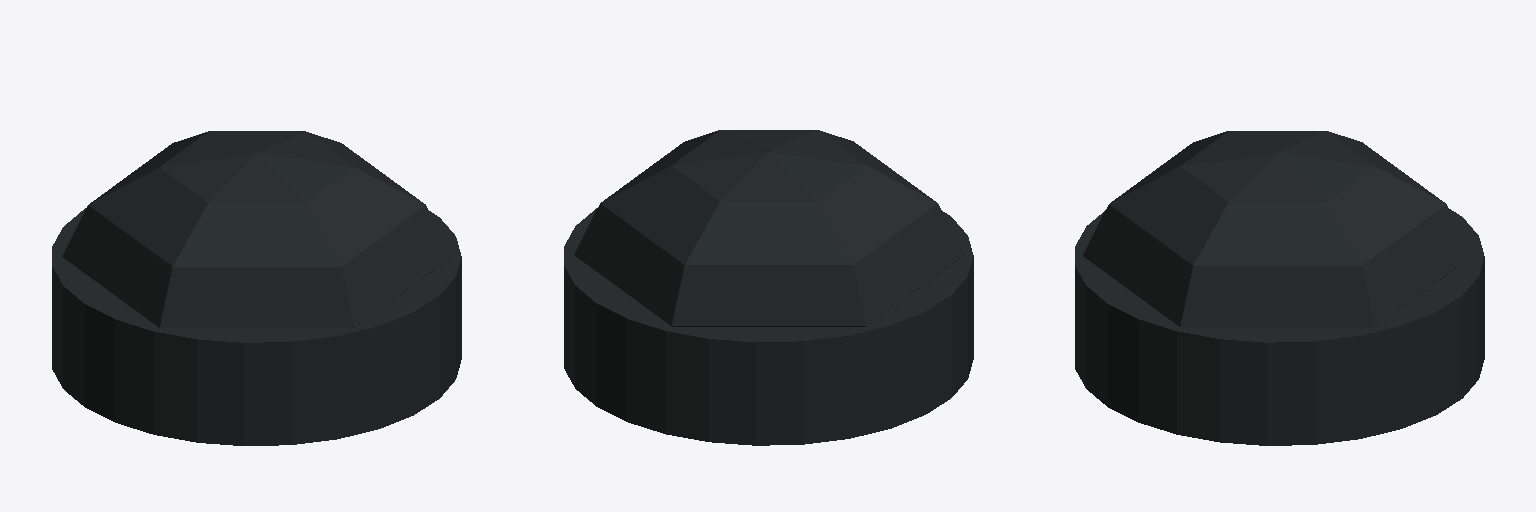
File: Крепеж.obj
3 renders of one model, left to right at view 1: azimuth 30°, elevation 25°; view 2: azimuth 150°, elevation 25°; view 3: azimuth 270°, elevation 25°, orthographic.
Visible parts, largest first — view 1: крепеж_Сфера.003; view 2: крепеж_Сфера.003; view 3: крепеж_Сфера.003.
Part boxes in pixels (x1,y1,x2,y2): крепеж_Сфера.003: (52,131,461,445); крепеж_Сфера.003: (564,130,973,445); крепеж_Сфера.003: (1075,131,1484,445).
Bounding box in the file's own units: 0.1715 × 0.0955 × 0.1712.